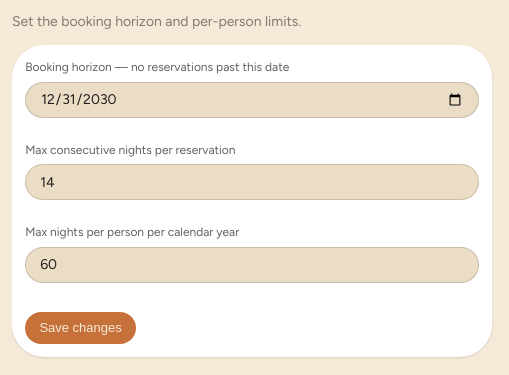
Scenario: CAP-027 Booking rules settings › CAP-027 · Night limits must be at least 1 on the form (1 saves and shows "Saved.")
Replace the text in the number field labelled "Max consecutive nights per reservation" with "1": coordinates (252, 182) top-left (25, 164), bottom-right (479, 200)
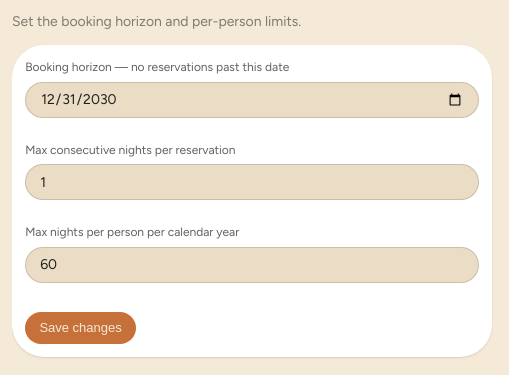
Click the button "Save changes": coordinates (81, 328) top-left (25, 312), bottom-right (136, 344)
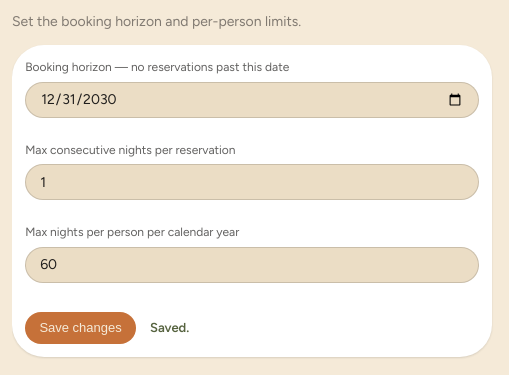
Check: the text "Saved." is shown, box top-left (150, 318), bottom-right (189, 338)
